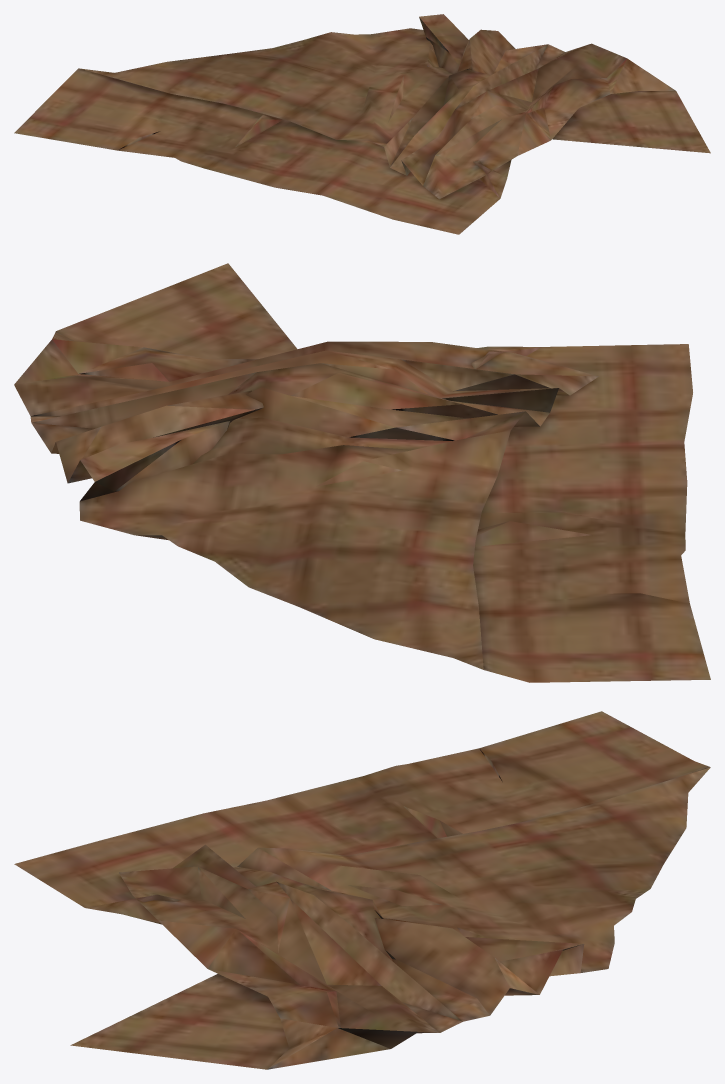
The model's file is rag_blanket_0_lod1_web.glb.
The picture shows the model from 3 angles, top to bottom: view 1: azimuth 30°, elevation 25°; view 2: azimuth 150°, elevation 25°; view 3: azimuth 270°, elevation 25°; orthographic projection. The views are drawn at different scales.
Parts seen in each view (by area): view 1: rag_blanket_0_Cloth; view 2: rag_blanket_0_Cloth; view 3: rag_blanket_0_Cloth.
Part boxes in pixels (x1=…): rag_blanket_0_Cloth: x1=14, y1=14, x2=710, y2=234; rag_blanket_0_Cloth: x1=14, y1=263, x2=710, y2=682; rag_blanket_0_Cloth: x1=14, y1=711, x2=710, y2=1069.
Size of the model in its own units: 1.63 by 0.111 by 1.34.
1 material, 1 textured.
